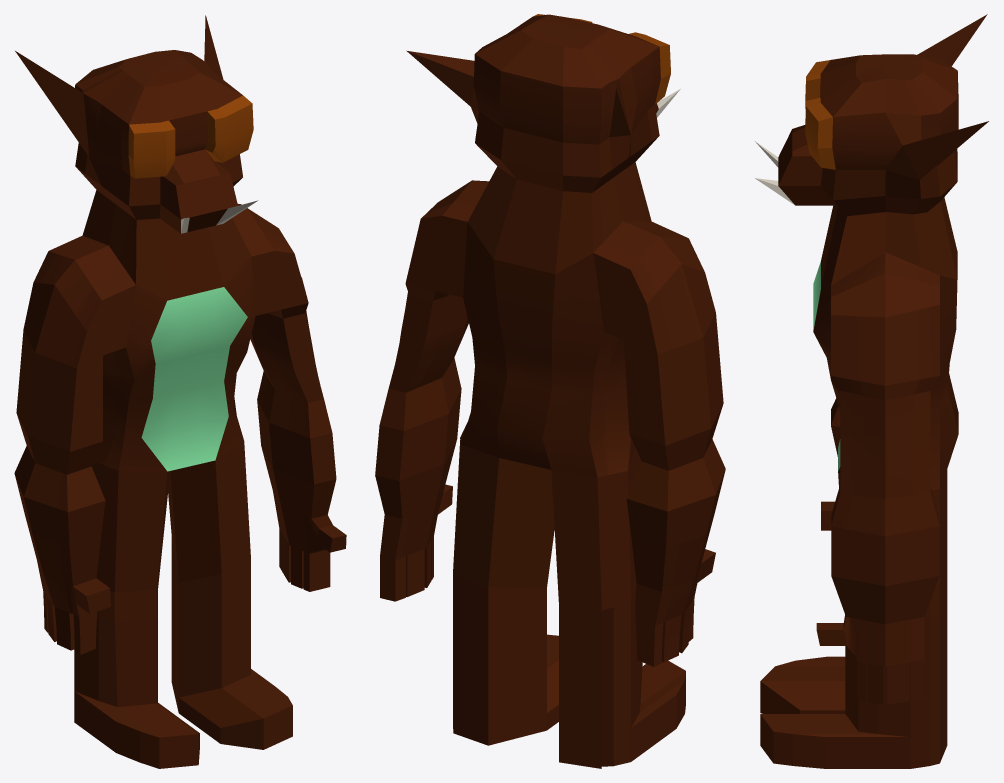
File: Monster_Prototype.fbx
3 renders of one model, left to right at view 1: azimuth 30°, elevation 25°; view 2: azimuth 150°, elevation 25°; view 3: azimuth 270°, elevation 25°, orthographic. The views are drawn at different scales.
Parts seen in each view (by area): view 1: pCylinder4; view 2: pCylinder4; view 3: pCylinder4.
Part boxes in pixels (<box>): pCylinder4: <box>14,15,346,768</box>; pCylinder4: <box>375,14,725,768</box>; pCylinder4: <box>755,14,988,768</box>.
Size of the model in its own units: 3.89 by 7.93 by 2.54.
